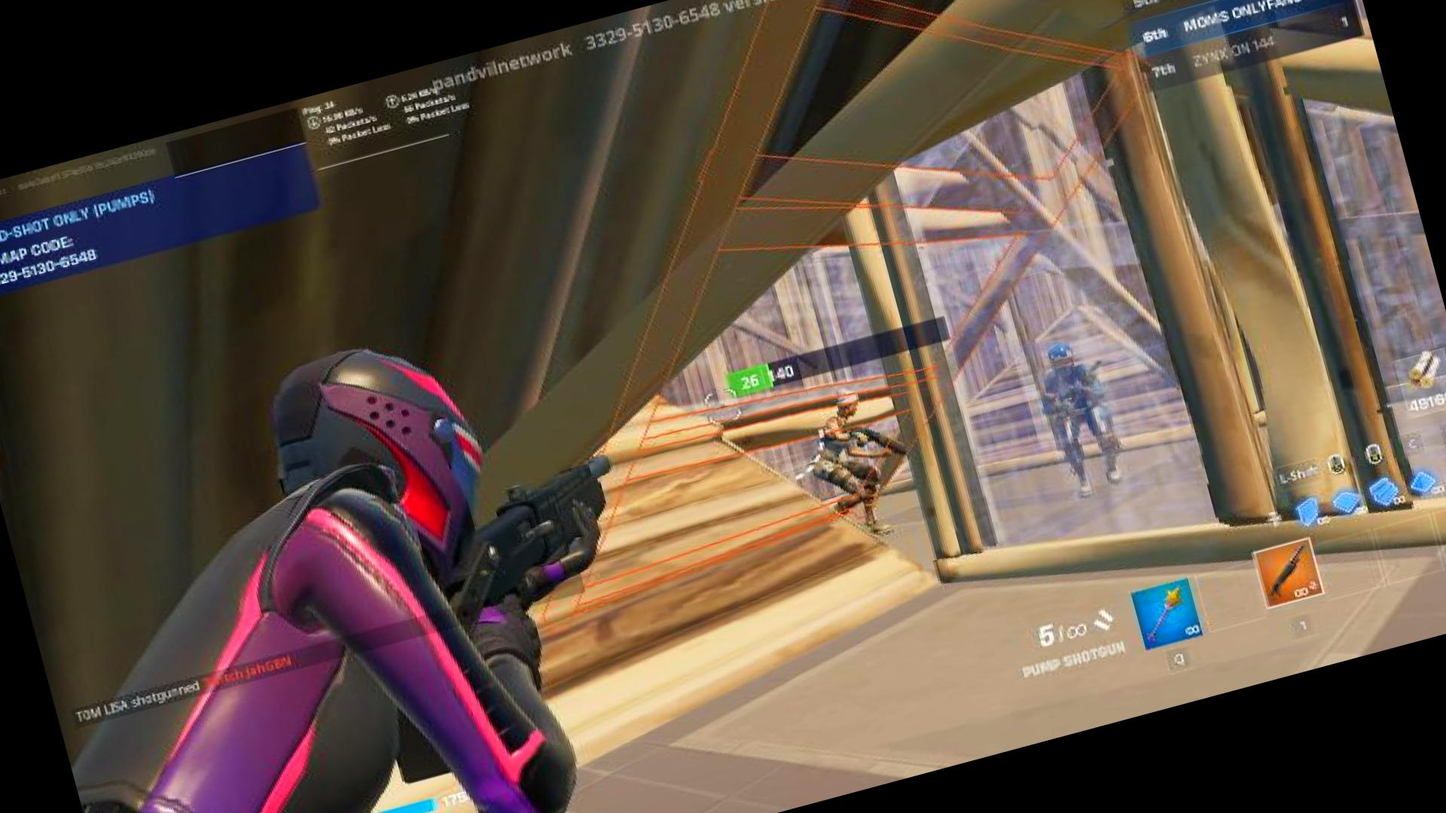player: (1012, 315, 1176, 516), (786, 370, 923, 560)
